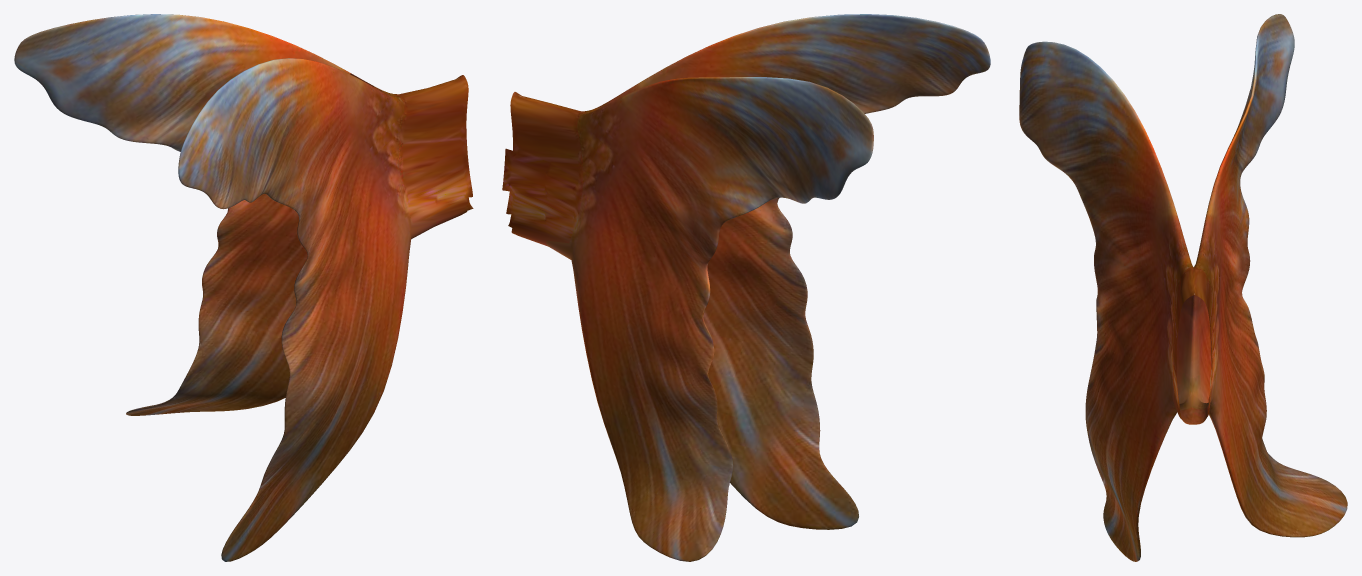
Rendered from aletaTrasera.obj.
The picture shows the model from 3 angles, left to right: view 1: azimuth 30°, elevation 25°; view 2: azimuth 150°, elevation 25°; view 3: azimuth 270°, elevation 25°; orthographic projection. The views are drawn at different scales.
Visible parts, largest first — view 1: aletaTrasera; view 2: aletaTrasera; view 3: aletaTrasera.
Part boxes in pixels (x1,y1,x2,y2): aletaTrasera: (14, 14, 473, 561); aletaTrasera: (502, 14, 990, 561); aletaTrasera: (1019, 14, 1347, 561).
Bounding box in the file's own units: 5.61 × 6.69 × 4.1.
1 material, 1 textured.
